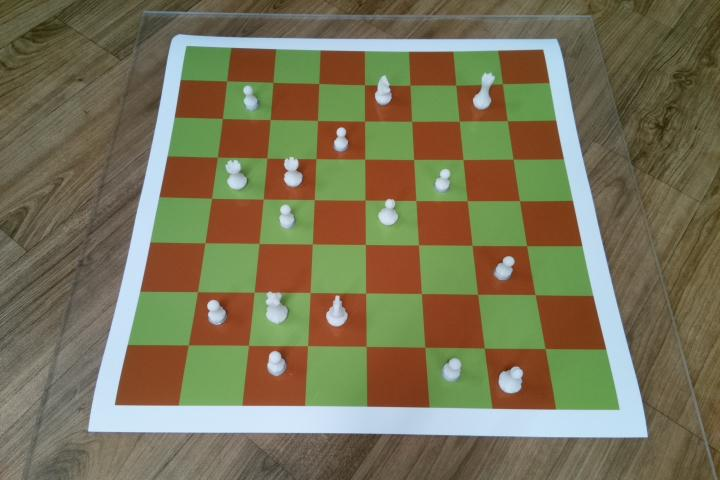chessboard-detect: (114, 46, 621, 411)
